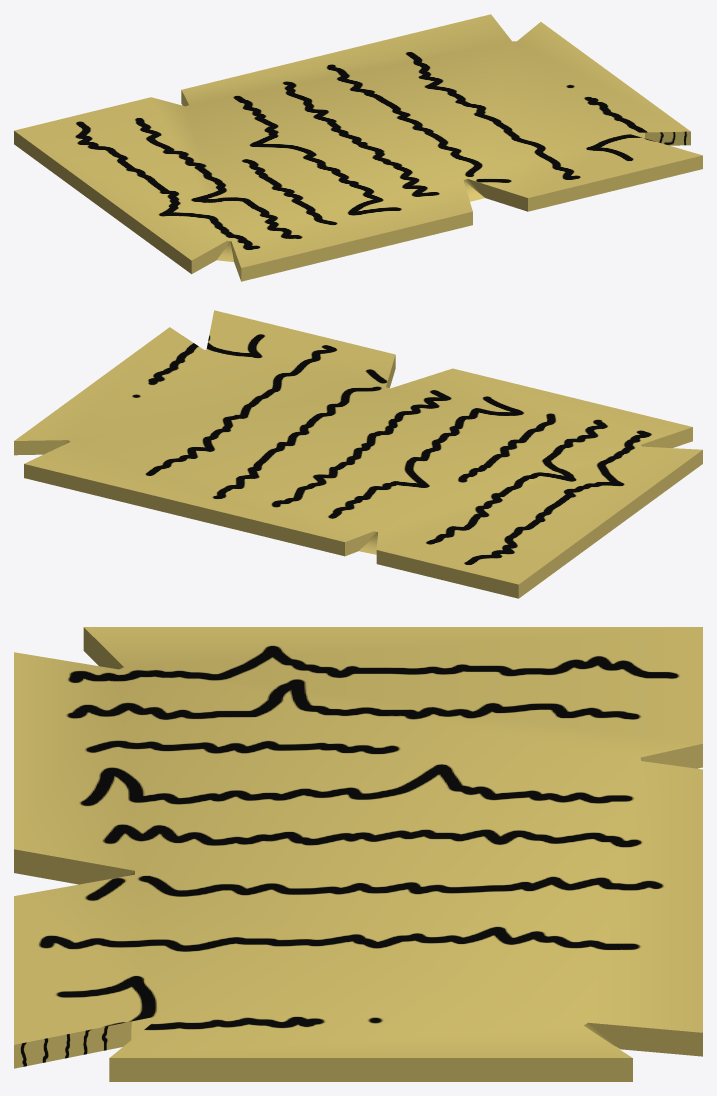
Rendered from CartaModelo.fbx.
3 views of the same model, one above another, from view 1: azimuth 30°, elevation 25°; view 2: azimuth 150°, elevation 25°; view 3: azimuth 270°, elevation 25° (orthographic). The views are drawn at different scales.
Parts seen in each view (by area): view 1: Box001; view 2: Box001; view 3: Box001.
Part boxes in pixels (<box>): Box001: <box>14,14,702,281</box>; Box001: <box>14,310,702,598</box>; Box001: <box>14,627,702,1081</box>.
Bounding box in the file's own units: 30.98 × 0.7969 × 20.93.
